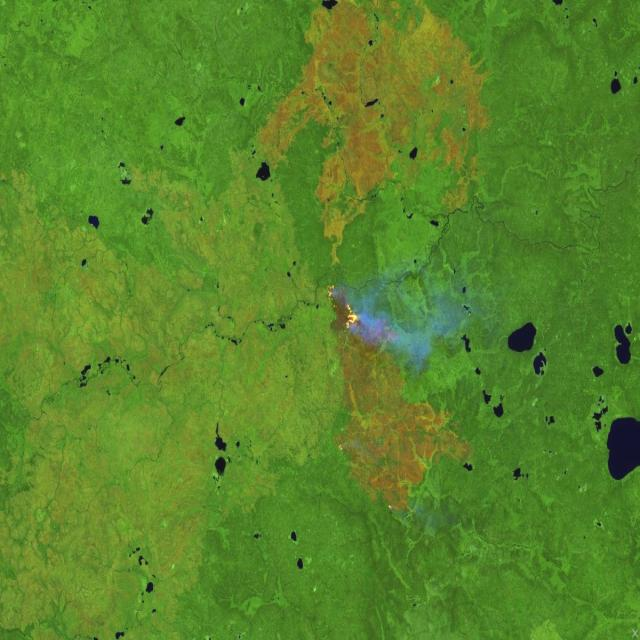fire: (319, 274, 366, 341)
